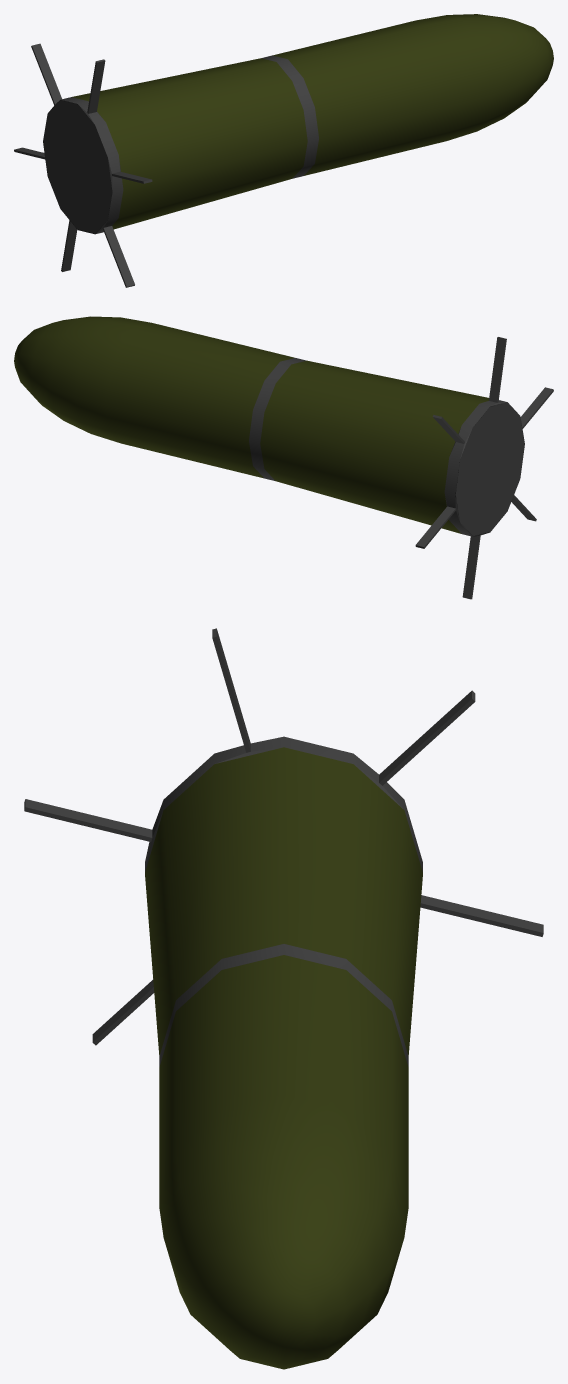
Rendered from tankShell_sm.FBX.
3 renders of one model, top to bottom at view 1: azimuth 30°, elevation 25°; view 2: azimuth 150°, elevation 25°; view 3: azimuth 270°, elevation 25°, orthographic. The views are drawn at different scales.
Parts seen in each view (by area): view 1: Capsule001; view 2: Capsule001; view 3: Capsule001.
Part boxes in pixels (x1,y1,x2,y2): Capsule001: (14,14,553,287); Capsule001: (14,316,553,599); Capsule001: (24,628,543,1369).
Bounding box in the file's own units: 42.86 × 20.42 × 20.42.
